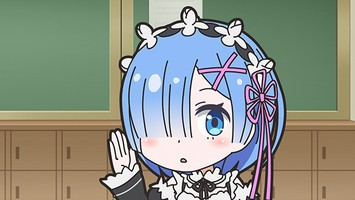rem: (107, 10, 286, 200)
